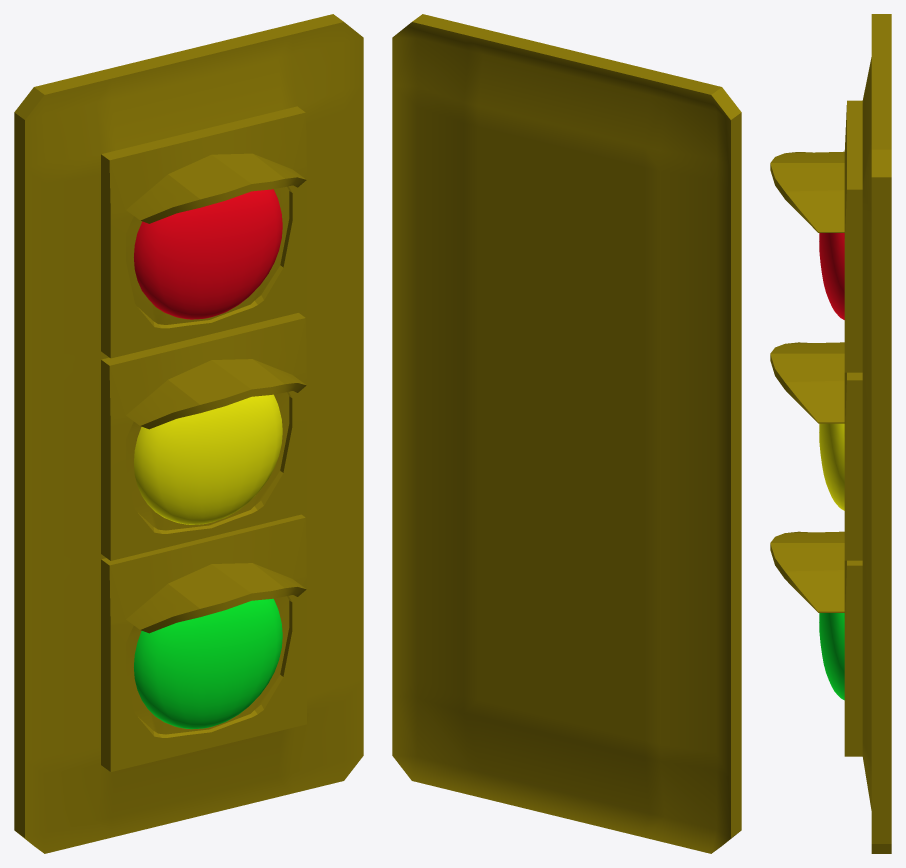
Rendered from Traffic Light.fbx.
3 views of the same model, side by side, from view 1: azimuth 30°, elevation 25°; view 2: azimuth 150°, elevation 25°; view 3: azimuth 270°, elevation 25° (orthographic). The views are drawn at different scales.
Visible parts, largest first — view 1: TrafficLight_low, GreenLight_low, YellowLight_low, RedLight_low; view 2: TrafficLight_low; view 3: TrafficLight_low, YellowLight_low, GreenLight_low, RedLight_low.
Part boxes in pixels (x1,y1,x2,y2): TrafficLight_low: [14, 14, 363, 853]; GreenLight_low: [134, 598, 282, 729]; YellowLight_low: [134, 394, 282, 524]; RedLight_low: [134, 189, 282, 319]; TrafficLight_low: [392, 14, 741, 853]; TrafficLight_low: [770, 14, 891, 853]; YellowLight_low: [819, 423, 844, 510]; GreenLight_low: [819, 613, 844, 700]; RedLight_low: [819, 233, 844, 319].
Bounding box in the file's own units: 1.43 × 3.07 × 0.4797.
